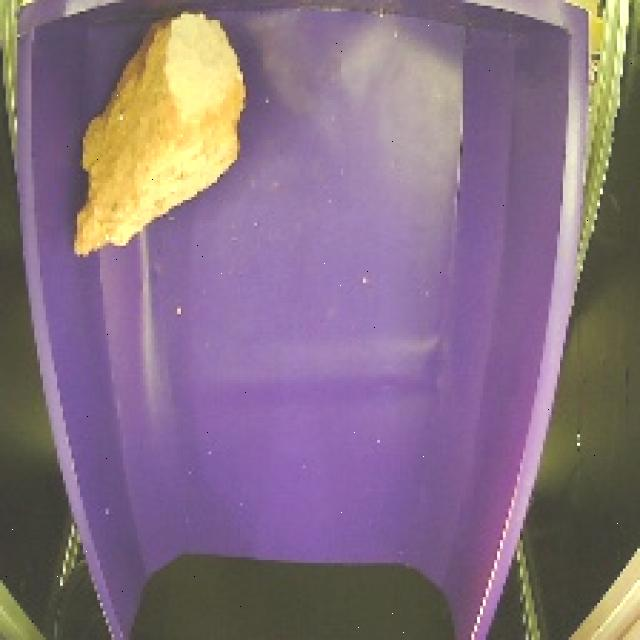brick: (62, 8, 253, 268)
